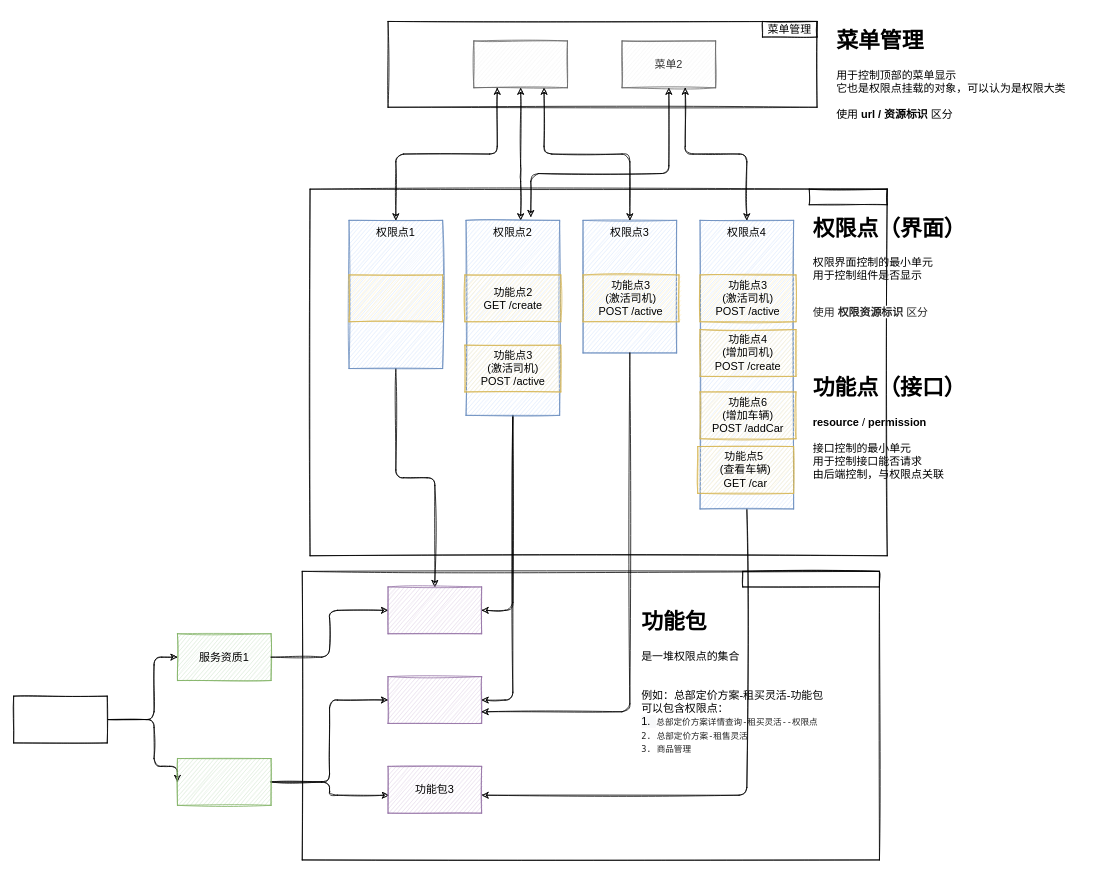
The diagram is 1096 pixels wide and 874 high, and some of its shapes have lost their labels. The shapes that lost their labels are listed below. From the top down, each one's centre as x and y in pixels, then its label:
[520,64]: 菜单1
[847,196]: 权限点管理
[395,298]: 功能点1 POST /getUser
[810,579]: 功能包管理
[434,610]: 功能包1
[60,719]: 子系统
[434,699]: 功能包2
[224,781]: 服务资质2
